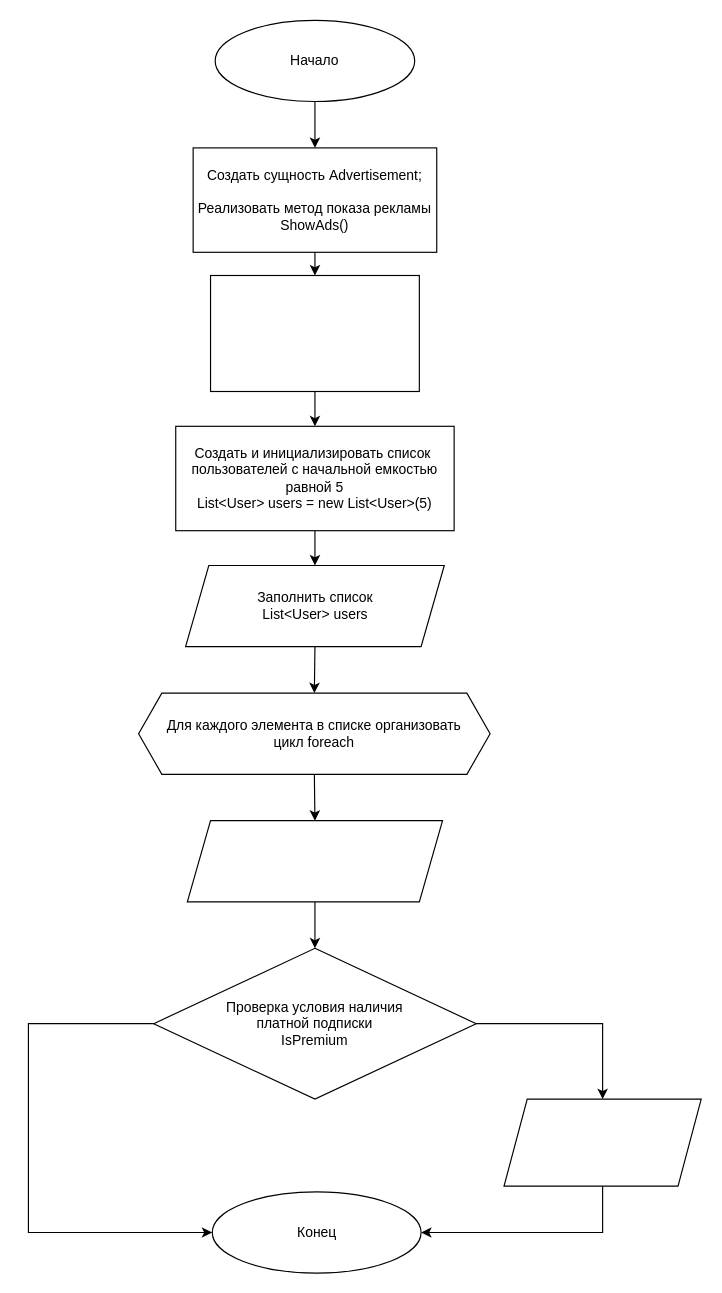
The diagram is 722 pixels wide and 1293 high, and some of its shapes have lost their labels. Here are the shapes that lost their labels. From the top down, the centre of each, then its label:
At pixel 314 333: "Создать сущность User с автосвойствами: Login; Name: IsPrimium.".
At pixel 314 861: "Вывести приветствие методом Console.Write()".
At pixel 602 1142: "Показать рекламу ShowAds()".
